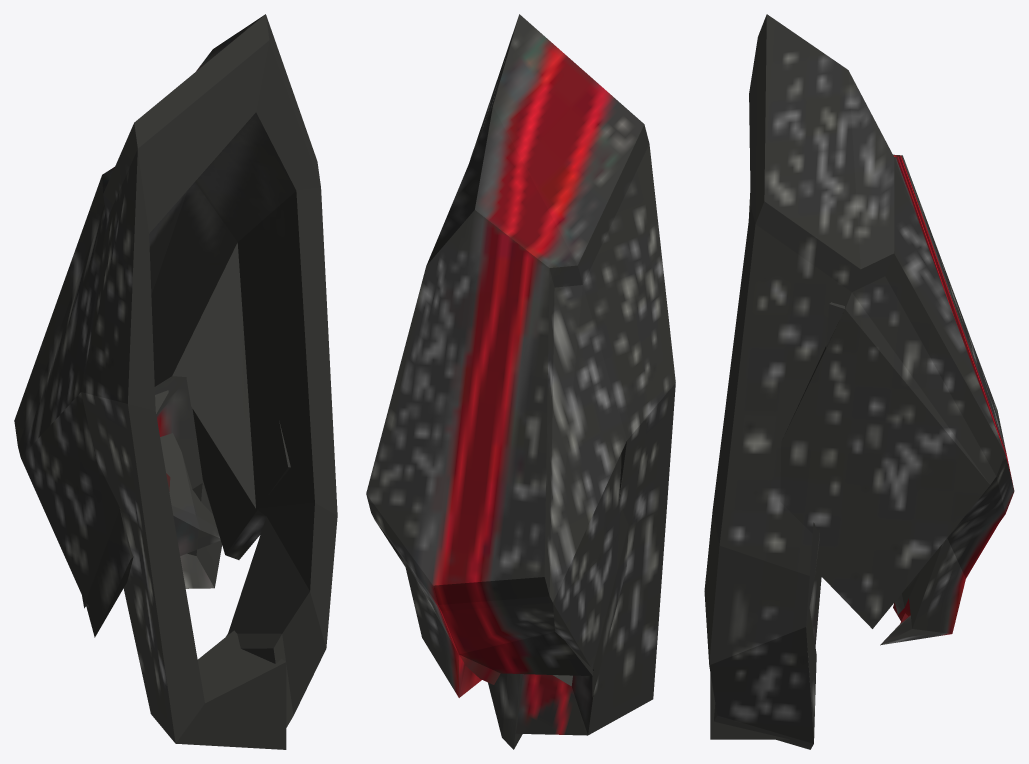
Rendered from item-clancymask.glb.
The picture shows the model from 3 angles, left to right: view 1: azimuth 30°, elevation 25°; view 2: azimuth 150°, elevation 25°; view 3: azimuth 270°, elevation 25°; orthographic projection. The views are drawn at different scales.
Size of the model in its own units: 0.0473 by 0.1655 by 0.0625.
Materials: 1 (1 with a texture image).
